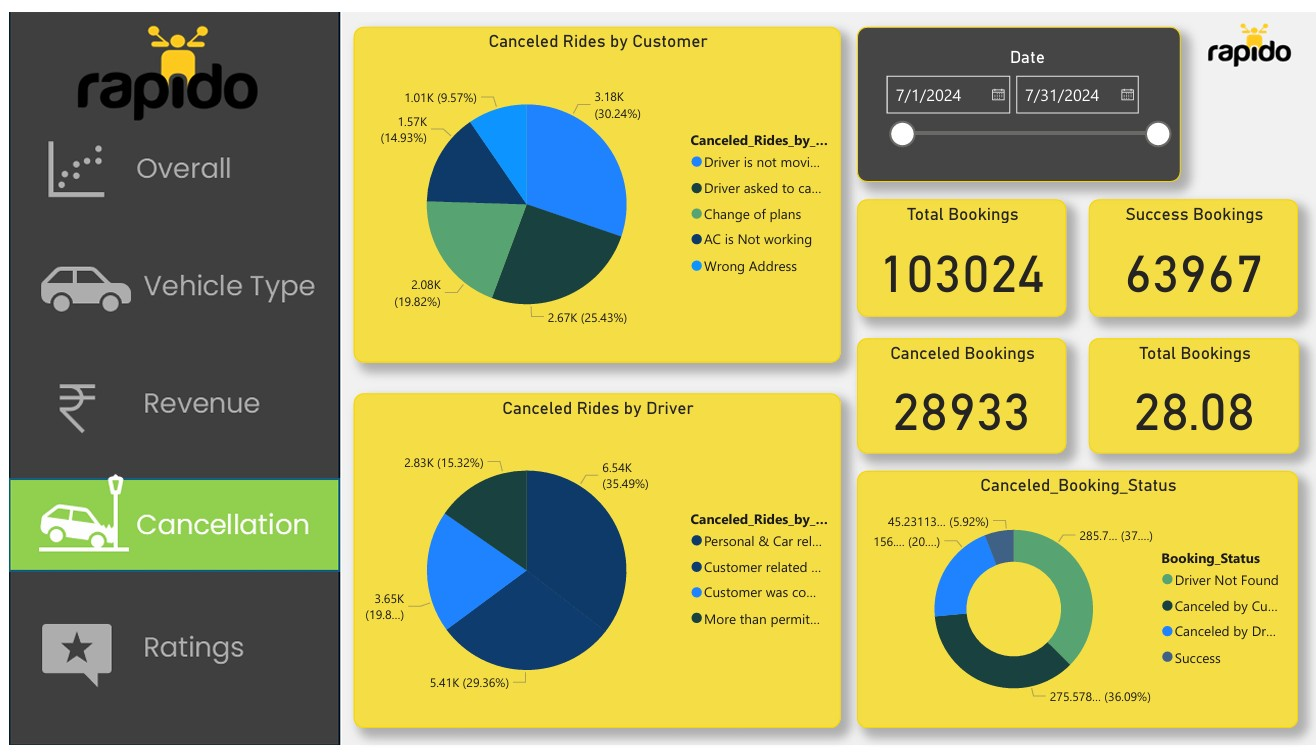

What the dashboard file says about the page in this screenshot:
{"tool":"powerbi","page":{"name":"Cancellation","canvas":[1280,720],"ordinal":3},"visuals":[{"type":"actionButton","box":[0,222,319.7,88.1],"z":0},{"type":"actionButton","box":[0,343.8,319.7,88.1],"z":1000},{"type":"actionButton","box":[0,580.3,319.7,88.1],"z":2000},{"type":"actionButton","box":[0,112.2,319.7,88.1],"z":3000},{"type":"pieChart","title":"Canceled Rides by Customer","fields":{"Category":["July.Canceled_Rides_by_Customer"],"Y":["CountNonNull(July.Canceled_Rides_by_Customer)"]},"box":[337.2,14,477,329.4],"z":3001},{"type":"pieChart","title":"Canceled Rides by Driver","fields":{"Category":["July.Canceled_Rides_by_Driver"],"Y":["CountNonNull(July.Canceled_Rides_by_Driver)"]},"box":[337.2,372.9,477,327.8],"z":3002},{"type":"slicer","title":"Date","fields":{"Values":["July.Date"]},"box":[829.7,14,317,152.3],"z":3004},{"type":"card","title":"Total Bookings","fields":{"Values":["CountNonNull(July.Booking_ID)"]},"box":[829.7,183.3,205.1,115],"z":3005},{"type":"card","title":"Total Bookings","fields":{"Values":["July.Canceled_Booking_%"]},"box":[1056.6,318.5,206.7,113.4],"z":3006},{"type":"card","title":"Canceled Bookings","fields":{"Values":["CountNonNull(July.Booking_ID)"]},"box":[829.7,318.5,205.1,113.4],"z":3007},{"type":"card","title":"Success Bookings","fields":{"Values":["CountNonNull(July.Booking_ID)"]},"box":[1056.6,183.3,205.1,115],"z":3008},{"type":"donutChart","title":"Canceled_Booking_Status","fields":{"Category":["July.Booking_Status"],"Y":["July.Canceled_Booking_%"]},"box":[829.7,449,432,251.7],"z":3009}]}

Visuals, with their boxes in screenshot pixels (x1, y1, x2, y2), scaled from the page's 1280x720 canvas onto the 1316x755 screenshot:
actionButton: 0, 233, 329, 325
actionButton: 0, 361, 329, 453
actionButton: 0, 609, 329, 701
actionButton: 0, 118, 329, 210
"Canceled Rides by Customer" pieChart: 347, 15, 837, 360
"Canceled Rides by Driver" pieChart: 347, 391, 837, 735
"Date" slicer: 853, 15, 1179, 174
"Total Bookings" card: 853, 192, 1064, 313
"Total Bookings" card: 1086, 334, 1299, 453
"Canceled Bookings" card: 853, 334, 1064, 453
"Success Bookings" card: 1086, 192, 1297, 313
"Canceled_Booking_Status" donutChart: 853, 471, 1297, 735
